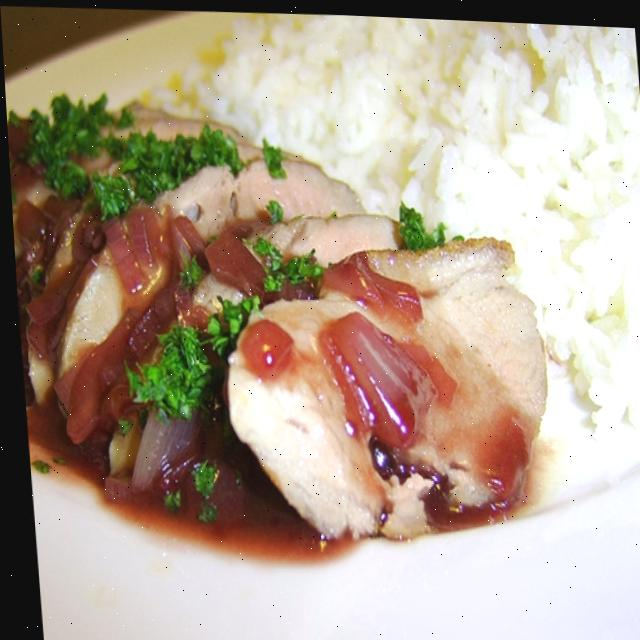米饭主食: (2, 36, 599, 627)
